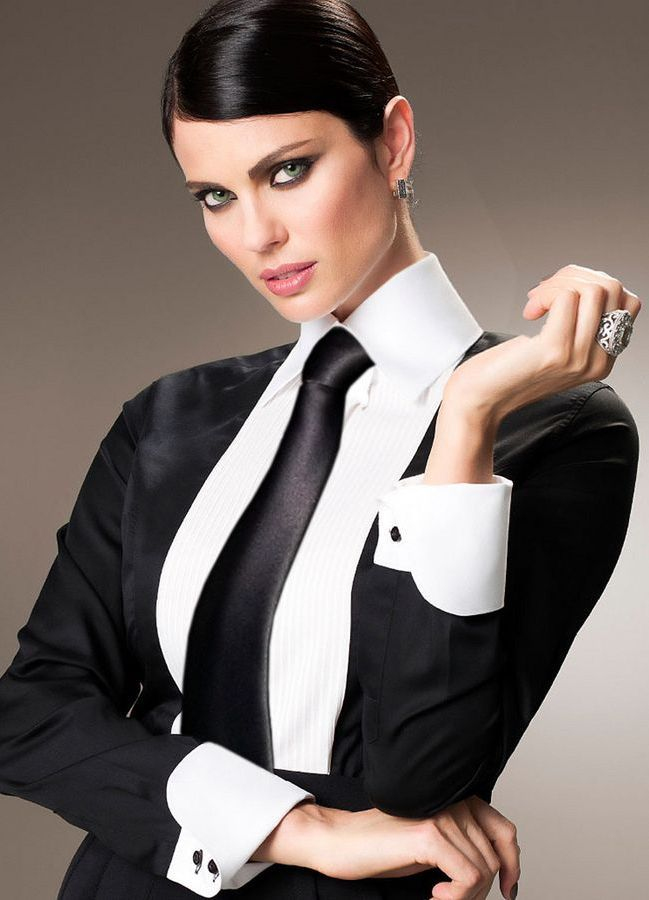tie: (165, 322, 381, 774)
